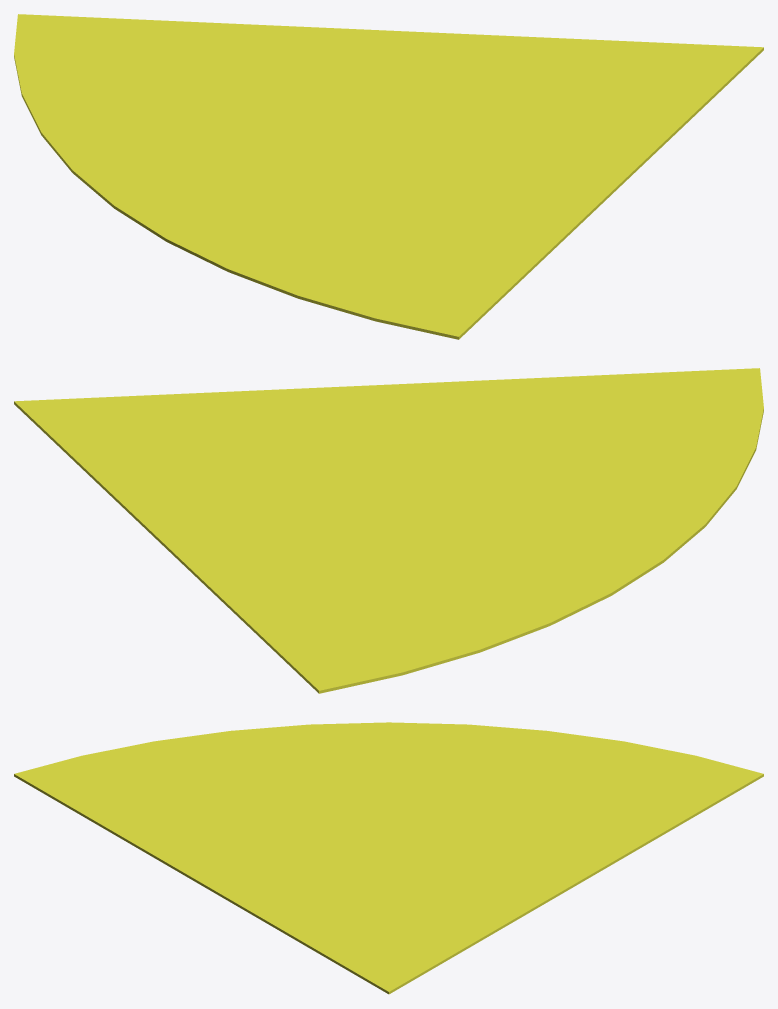
File: 06_03_3rd_World.fbx
3 views of the same model, one above another, from view 1: azimuth 30°, elevation 25°; view 2: azimuth 150°, elevation 25°; view 3: azimuth 270°, elevation 25° (orthographic). The views are drawn at different scales.
Visible parts, largest first — view 1: Minimap_sector; view 2: Minimap_sector; view 3: Minimap_sector.
Boxes of the visible parts, x1,y1,x2,y2 form: Minimap_sector: [14, 14, 763, 339]; Minimap_sector: [14, 368, 763, 693]; Minimap_sector: [14, 722, 763, 994].
Bounding box in the file's own units: 1 × 0.00437 × 1.18.
